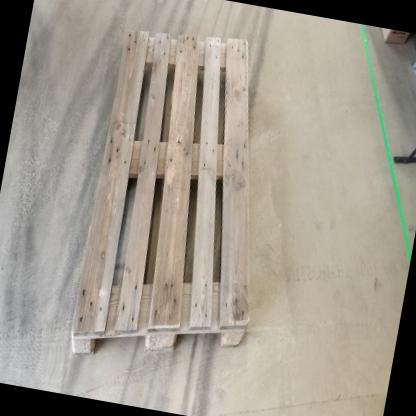BoxFace: (63, 24, 256, 364)
